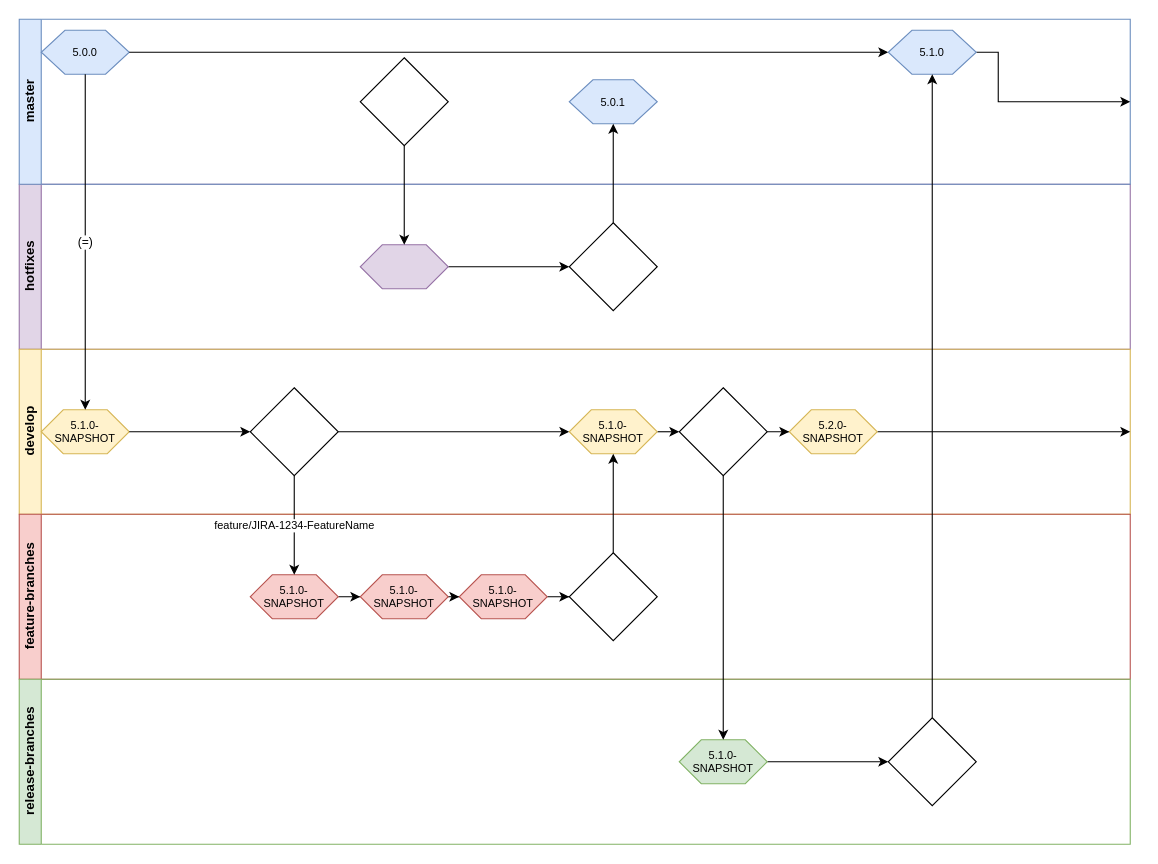
Image size: 1158x864. Some labels were removed from this diagram. The shapes that lost their labels are listed below. From the top down, each one's centre as x and y in pixels, then its label:
At point 403,101: "hotfix-start".
At point 403,266: "5.0.1-SNAPSHOT".
At point 612,266: "hotfix-finish".
At point 293,431: "feature-start".
At point 722,431: "release-start".
At point 612,596: "feature-finish".
At point 931,761: "release-finish".
